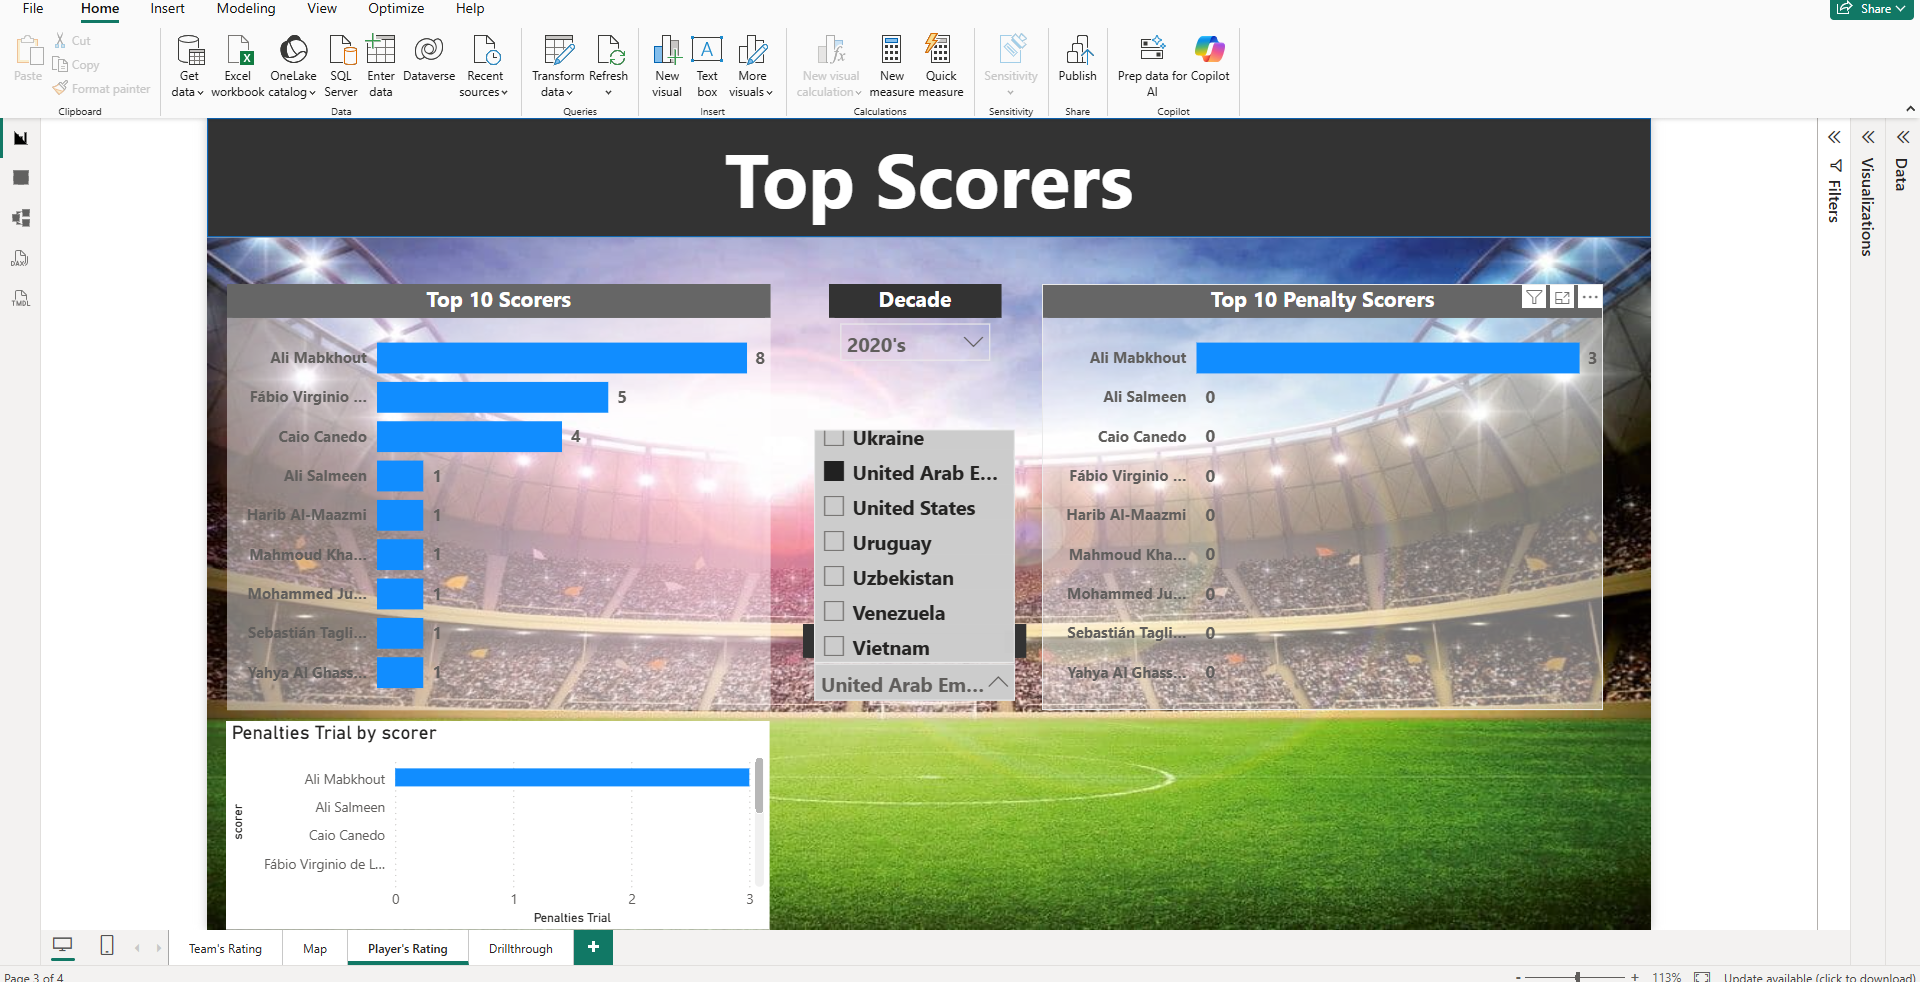

The page's visual inventory and layout, read from the dashboard file:
{"tool":"powerbi","page":{"name":"Player's Rating","canvas":[1280,720],"ordinal":2},"visuals":[{"type":"clusteredBarChart","title":"Top 10 Scorers ","fields":{"Category":["goalscorers.scorer"],"Y":["goalscorers.Top Scorers (Measure)"]},"box":[17.3,147.3,481.8,377.8],"z":0},{"type":"slicer","title":"Decade","fields":{"Values":["goalscorers.Year Bins"]},"box":[551.1,147.3,152.5,109.2],"z":1000},{"type":"shape","title":"Top Scorers","box":[0,0,1280.7,105.7],"z":2000},{"type":"clusteredBarChart","title":"Top 10 Penalty Scorers ","fields":{"Category":["goalscorers.scorer"],"Y":["goalscorers.Top Penalty Scorers"]},"box":[740,147.3,497.4,377.8],"z":3000},{"type":"slicer","title":"Country","fields":{"Values":["goalscorers.team"]},"box":[528.6,448.9,197.6,109.2],"z":4000},{"type":"clusteredBarChart","fields":{"Category":["goalscorers.scorer"],"Y":["goalscorers.Penalties Trial"]},"box":[17,535,482,185],"z":5000}]}

Visuals, with their boxes on the page's 1280x720 design canvas (x1, y1, x2, y2). These are canvas units, not pixel positions in the 1920x982 screenshot, which may show the page scaled, cropped or inside an application window:
"Top 10 Scorers " clusteredBarChart: (left=17, top=147, right=499, bottom=525)
"Decade" slicer: (left=551, top=147, right=704, bottom=256)
"Top Scorers" shape: (left=0, top=0, right=1281, bottom=106)
"Top 10 Penalty Scorers " clusteredBarChart: (left=740, top=147, right=1237, bottom=525)
"Country" slicer: (left=529, top=449, right=726, bottom=558)
clusteredBarChart - goalscorers.scorer x goalscorers.Penalties Trial: (left=17, top=535, right=499, bottom=720)
